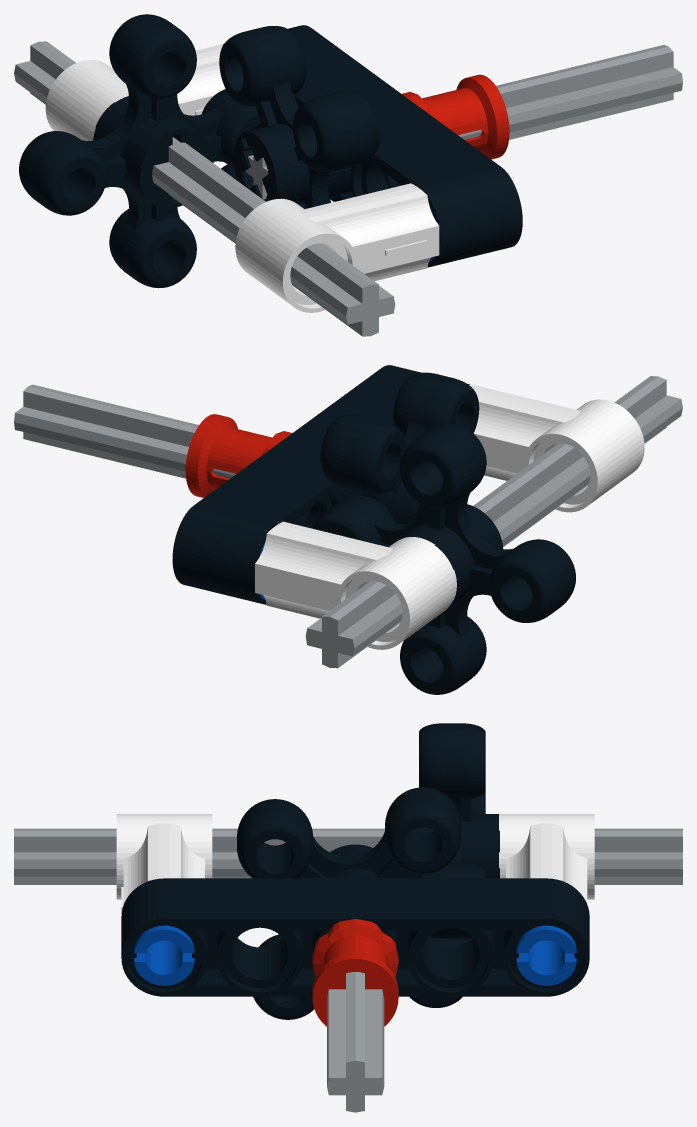
The model's file is rot2-2sides.glb.
3 renders of one model, top to bottom at view 1: azimuth 30°, elevation 25°; view 2: azimuth 150°, elevation 25°; view 3: azimuth 270°, elevation 25°, orthographic.
Parts seen in each view (by area): view 1: הופך סיבוב רגיל לדו צדדי; view 2: הופך סיבוב רגיל לדו צדדי; view 3: הופך סיבוב רגיל לדו צדדי.
Part boxes in pixels (x1=…): הופך סיבוב רגיל לדו צדדי: x1=14, y1=14, x2=682, y2=336; הופך סיבוב רגיל לדו צדדי: x1=14, y1=365, x2=682, y2=694; הופך סיבוב רגיל לדו צדדי: x1=14, y1=723, x2=682, y2=1112.
Size of the model in its own units: 144 by 60 by 140.
